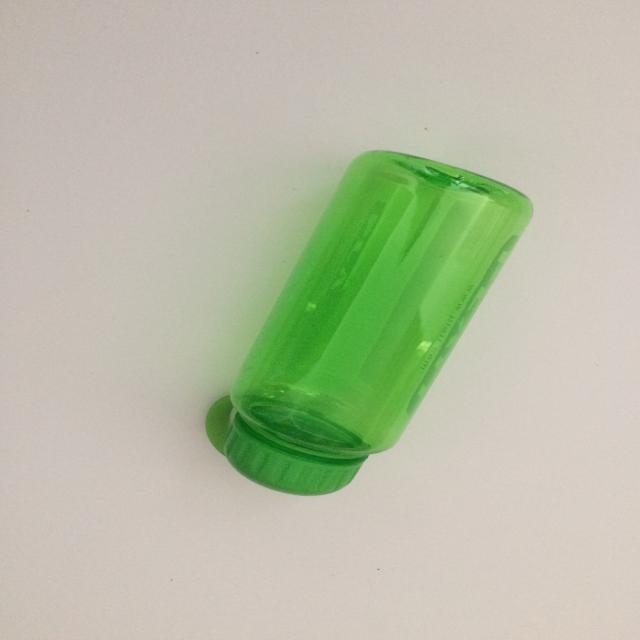plastic: (205, 148, 534, 496)
